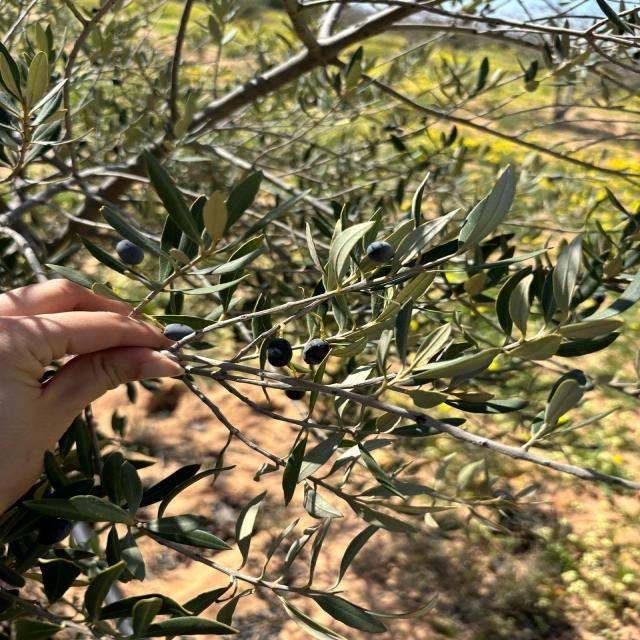Healthy: (27, 452, 209, 581), (143, 152, 205, 244), (459, 166, 517, 252), (404, 322, 453, 374), (553, 234, 581, 324), (299, 433, 343, 482), (302, 338, 330, 366), (266, 338, 292, 368), (116, 239, 144, 265), (366, 241, 394, 264), (163, 324, 195, 340)
